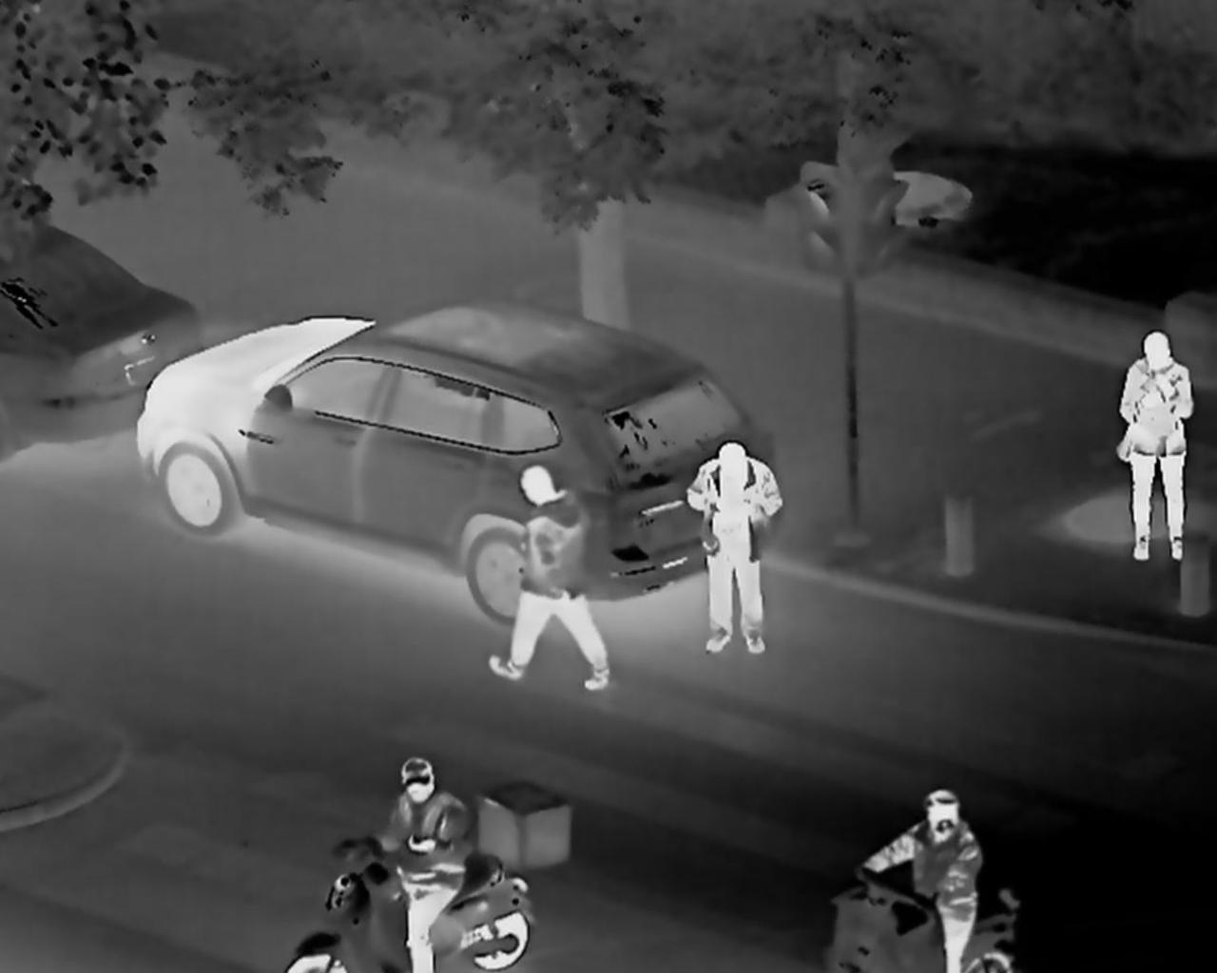person: (489, 459, 608, 696), (681, 439, 782, 657), (372, 757, 470, 950), (871, 784, 972, 955), (1118, 328, 1186, 562)
